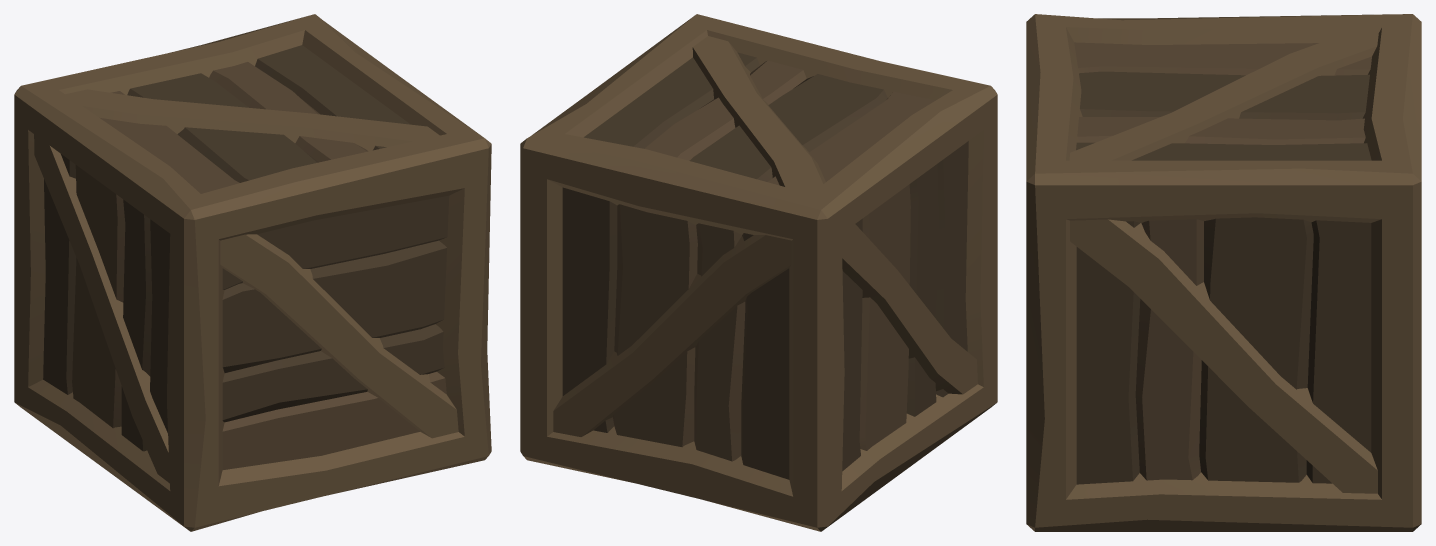
The model's file is crate.glb.
The picture shows the model from 3 angles, left to right: view 1: azimuth 30°, elevation 25°; view 2: azimuth 150°, elevation 25°; view 3: azimuth 270°, elevation 25°; orthographic projection. The views are drawn at different scales.
Visible parts, largest first — view 1: SM_Prop_Crate_Wood_01; view 2: SM_Prop_Crate_Wood_01; view 3: SM_Prop_Crate_Wood_01.
Part boxes in pixels (<box>): SM_Prop_Crate_Wood_01: <box>14,14,491,531</box>; SM_Prop_Crate_Wood_01: <box>520,14,997,531</box>; SM_Prop_Crate_Wood_01: <box>1026,14,1421,531</box>.
Size of the model in its own units: 0.5 by 0.5 by 0.5.
Materials: 1 (1 with a texture image).
